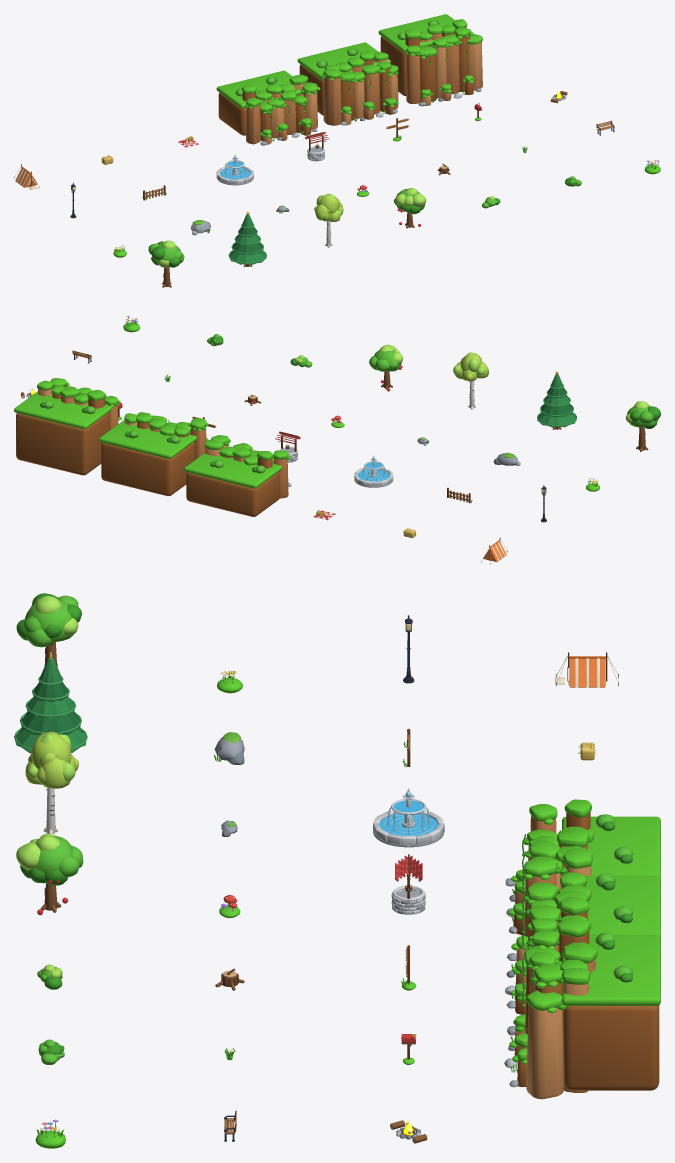
Rendered from Decorations.fbx.
3 views of the same model, one above another, from view 1: azimuth 30°, elevation 25°; view 2: azimuth 150°, elevation 25°; view 3: azimuth 270°, elevation 25° (orthographic). The views are drawn at different scales.
Parts seen in each view (by area): view 1: CliffA__Grass, CliffC__Grass, CliffB__Grass, CliffC__CliffDark, CliffB__Cliff, CliffA__CliffDark, CliffC__Cliff, CliffB__CliffDark, CliffC__CliffLight, CliffA__Cliff, CliffA__CliffLight, CliffB__CliffLight (+4 smaller); view 2: CliffC__CliffDark, CliffB__CliffDark, CliffA__CliffDark, CliffA__Grass, CliffB__Grass, CliffC__Grass, TreePine__Pine, TreeBirch__BirchLeaf, TreeFruit__Leaf, TreePine__PineDark, CliffA__Cliff, Fountain__Water; view 3: CliffC__Grass, CliffC__CliffDark, CliffB__Grass, CliffA__Grass, CliffC__CliffLight, TreeBirch__BirchLeaf, TreePine__Pine, TreeRound__Leaf, TreePine__PineDark, TreeFruit__Leaf, Fountain__Water, Tent__Tent (+2 smaller).
Boxes of the visible parts, x1,y1,x2,y2 form: CliffA__Grass: (216,70,320,140); CliffC__Grass: (378,14,482,101); CliffB__Grass: (297,42,398,120); CliffC__CliffDark: (380,33,473,102); CliffB__Cliff: (323,65,380,125); CliffA__CliffDark: (218,92,311,140); CliffC__Cliff: (406,33,459,103); CliffB__CliffDark: (299,59,396,121); CliffC__CliffLight: (420,27,482,105); CliffA__Cliff: (246,93,296,144); CliffA__CliffLight: (262,82,317,144); CliffB__CliffLight: (342,59,398,125); CliffC__CliffDark: (16,386,109,475); CliffB__CliffDark: (101,422,194,496); CliffA__CliffDark: (186,455,279,516); CliffA__Grass: (184,435,290,488); CliffB__Grass: (99,412,208,458); CliffC__Grass: (14,378,120,429); TreePine__Pine: (537,374,576,427); TreeBirch__BirchLeaf: (455,353,488,381); TreeFruit__Leaf: (369,349,401,371); TreePine__PineDark: (540,387,572,417); CliffA__Cliff: (233,456,288,498); Fountain__Water: (357,462,389,481); CliffC__Grass: (509,918,660,1071); CliffC__CliffDark: (517,931,659,1090); CliffB__Grass: (510,858,660,996); CliffA__Grass: (508,799,660,919); CliffC__CliffLight: (515,968,588,1099); TreeBirch__BirchLeaf: (25,731,78,788); TreePine__Pine: (15,657,86,752); TreeRound__Leaf: (23,595,78,647); TreePine__PineDark: (21,682,80,734); TreeFruit__Leaf: (27,836,83,877); Fountain__Water: (379,800,437,835); Tent__Tent: (569,658,605,687).
Size of the model in its own units: 18957 by 2339 by 10849.
